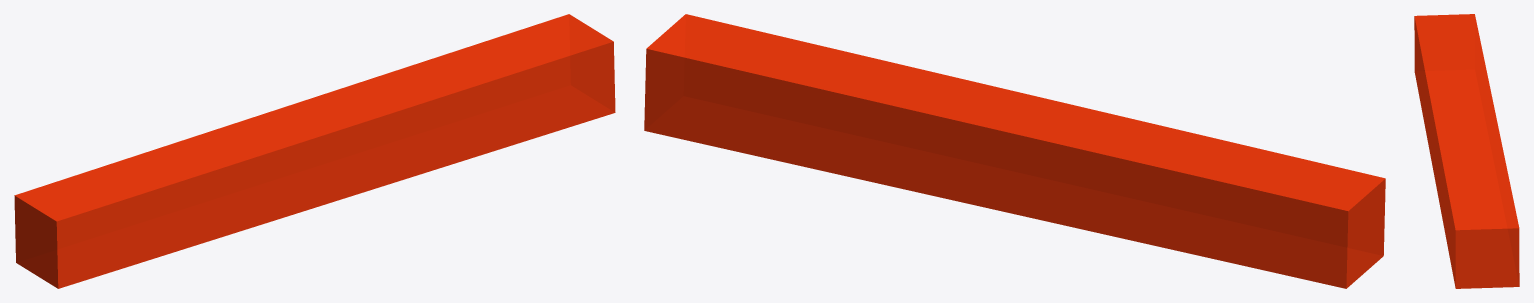
File: Event_420094457_EErechit_48.fbx
The picture shows the model from 3 angles, left to right: view 1: azimuth 30°, elevation 25°; view 2: azimuth 150°, elevation 25°; view 3: azimuth 270°, elevation 25°; orthographic projection. The views are drawn at different scales.
Visible parts, largest first — view 1: Model; view 2: Model; view 3: Model.
Boxes of the visible parts, left/top/right/bottom form: Model: left=14, top=14, right=615, bottom=288; Model: left=644, top=14, right=1385, bottom=288; Model: left=1414, top=14, right=1519, bottom=288.
Bounding box in the file's own units: 0.6591 × 0.0931 × 0.1258.
